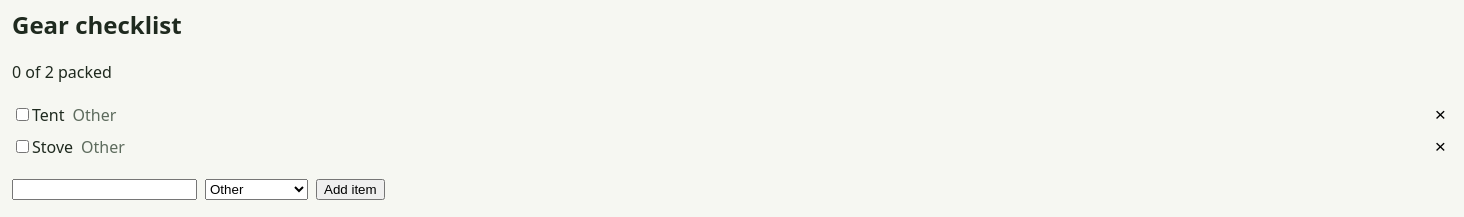
GearChecklist › updates the counter when an item is ticked
The image size is (1464, 217).
Click the checkbox labelled "Stove".
click(22, 146)  # box [16,140,29,153]
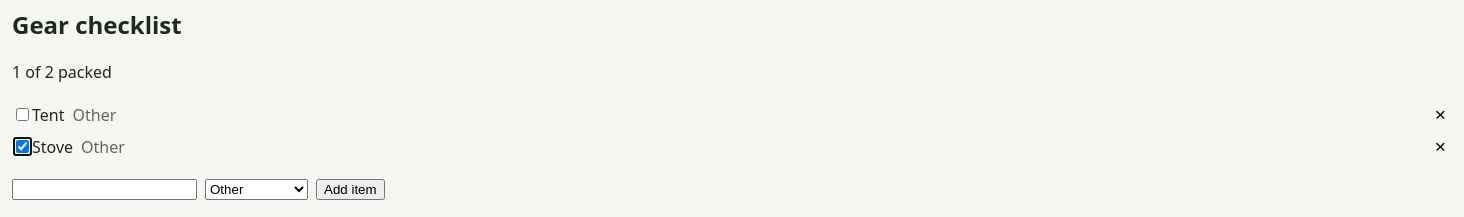
Now the message reads "1 of 2 packed", box [12,61,112,83]
